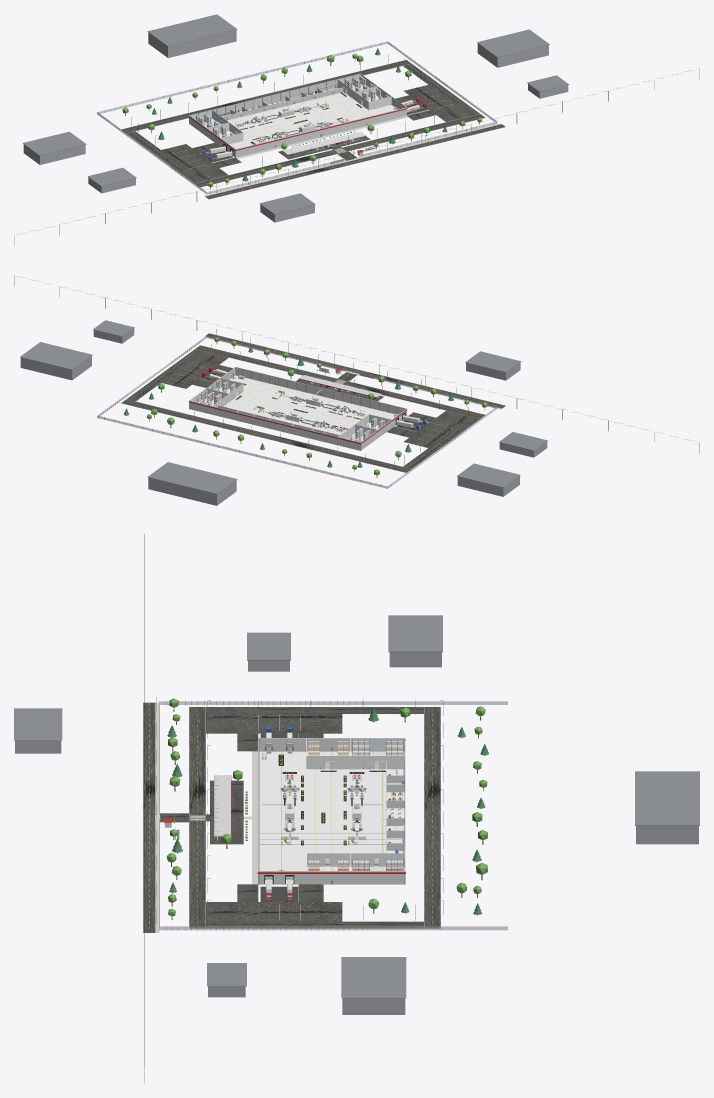
Rendered from planta.glb.
3 views of the same model, one above another, from view 1: azimuth 30°, elevation 25°; view 2: azimuth 150°, elevation 25°; view 3: azimuth 270°, elevation 25° (orthographic). The views are drawn at different scales.
Parts seen in each view (by area): view 1: PATY_Planta_Visual; view 2: PATY_Planta_Visual; view 3: PATY_Planta_Visual.
Part boxes in pixels (x1=…): PATY_Planta_Visual: x1=14, y1=14, x2=699, y2=246; PATY_Planta_Visual: x1=14, y1=275, x2=699, y2=505; PATY_Planta_Visual: x1=14, y1=534, x2=699, y2=1083.
Size of the model in its own units: 600 by 11.7 by 327.
Materials: 70 (1 with a texture image).
